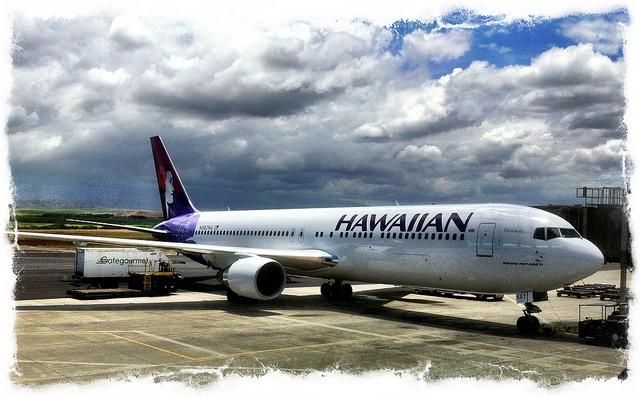airplane: (2, 132, 609, 343)
